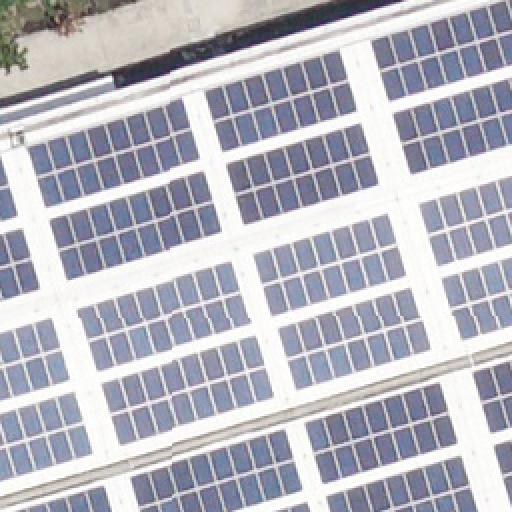solar-panel: (99, 332, 277, 448), (75, 259, 253, 373), (47, 169, 225, 279), (26, 97, 202, 207), (305, 378, 463, 486), (253, 210, 411, 318), (278, 284, 434, 392), (226, 120, 382, 228), (203, 50, 357, 154), (131, 425, 309, 511), (369, 0, 511, 104), (392, 77, 512, 179), (324, 454, 480, 512), (0, 389, 96, 483), (417, 174, 511, 266), (0, 314, 72, 402), (441, 256, 511, 340), (10, 481, 114, 511), (472, 357, 512, 435), (0, 226, 40, 302), (0, 153, 20, 223), (492, 438, 512, 506), (272, 497, 312, 511)
